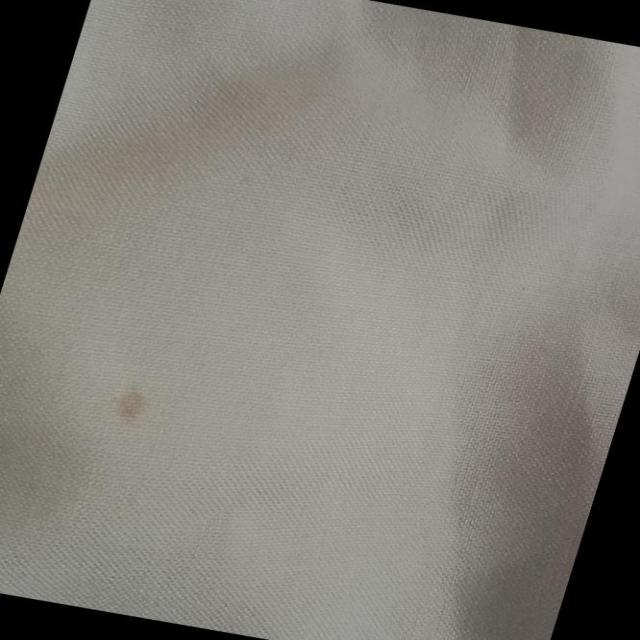stain: (88, 370, 176, 432)
